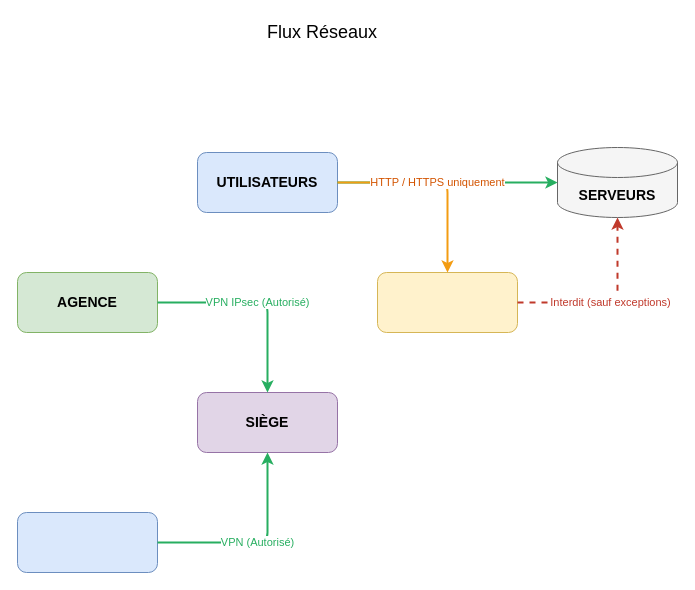
This 695x590 diagram has some shape labels left out. The shapes that lost their labels are listed below. From the top down, each one's centre as x and y in pixels, then its label:
pixel 447 302: DMZ
pixel 87 542: AZURE
